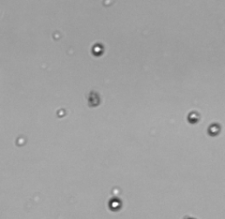Dead Cell: (86, 91, 101, 107)
Living Cell: (108, 198, 122, 210), (92, 43, 103, 55), (210, 123, 220, 135), (188, 111, 198, 122)
